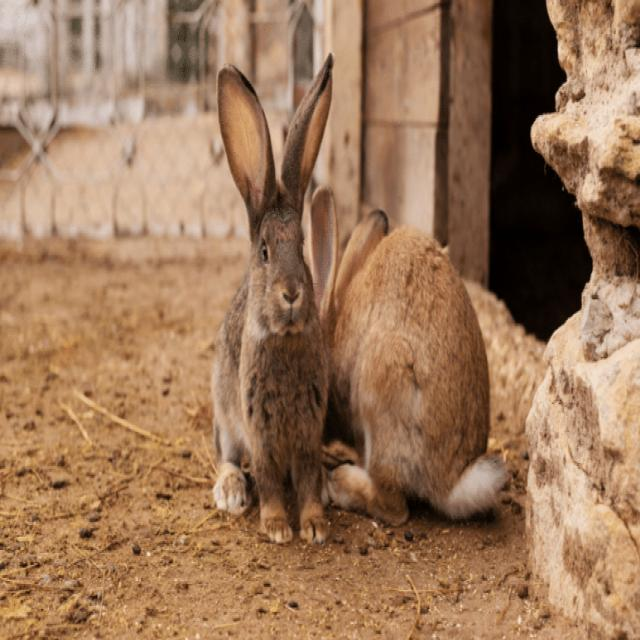rabbit: (319, 173, 497, 527), (208, 77, 336, 518)
